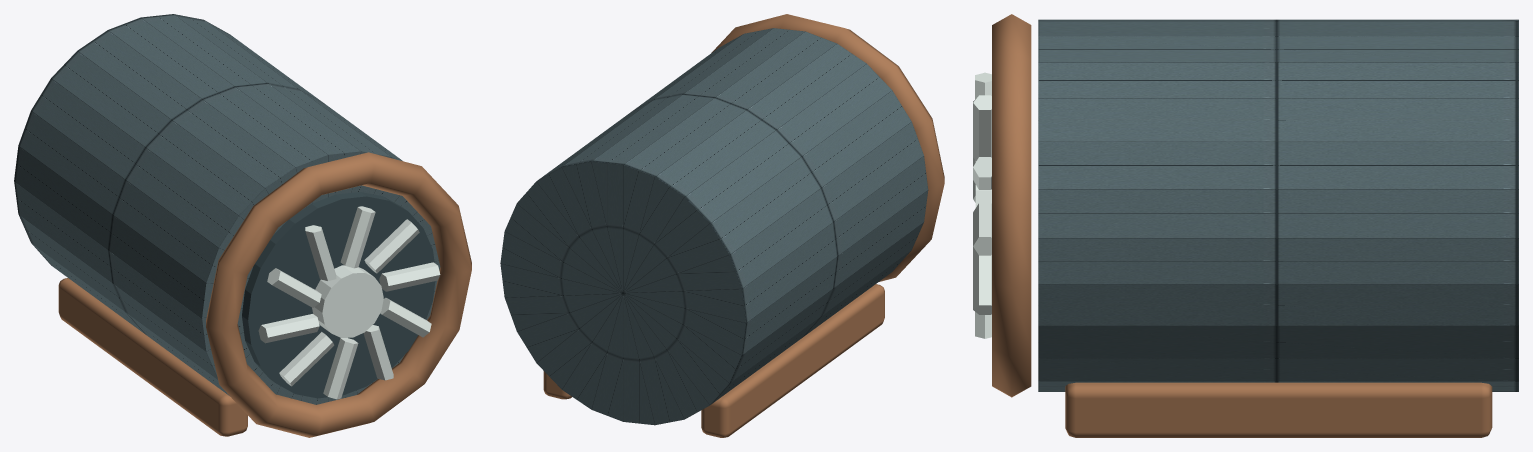
File: diving-and-underwater-salvage-submerged-engine-pod-3204991b__28439.glb
3 views of the same model, side by side, from view 1: azimuth 30°, elevation 25°; view 2: azimuth 150°, elevation 25°; view 3: azimuth 270°, elevation 25° (orthographic). The views are drawn at different scales.
Parts seen in each view (by area): view 1: submerged-engine-pod-steel, submerged-engine-pod-rust, submerged-engine-pod-dark, submerged-engine-pod-pale; view 2: submerged-engine-pod-steel, submerged-engine-pod-rust; view 3: submerged-engine-pod-steel, submerged-engine-pod-rust, submerged-engine-pod-pale.
Part boxes in pixels (left/top/right/bottom): submerged-engine-pod-steel: left=14, top=14, right=440, bottom=404; submerged-engine-pod-rust: left=58, top=152, right=471, bottom=437; submerged-engine-pod-dark: left=242, top=192, right=435, bottom=398; submerged-engine-pod-pale: left=258, top=206, right=440, bottom=399; submerged-engine-pod-steel: left=500, top=28, right=928, bottom=425; submerged-engine-pod-rust: left=543, top=14, right=944, bottom=437; submerged-engine-pod-steel: left=1038, top=19, right=1518, bottom=391; submerged-engine-pod-rust: left=992, top=14, right=1492, bottom=437; submerged-engine-pod-pale: left=973, top=72, right=991, bottom=338.
Bounding box in the file's own units: 1.47 × 1.45 × 2.05.
4 materials, 1 textured.
